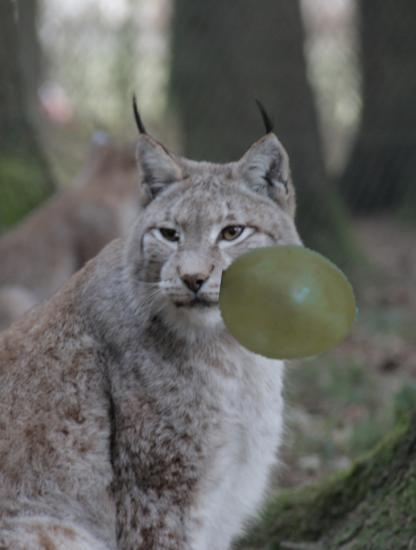Grape: (219, 233, 359, 373)
